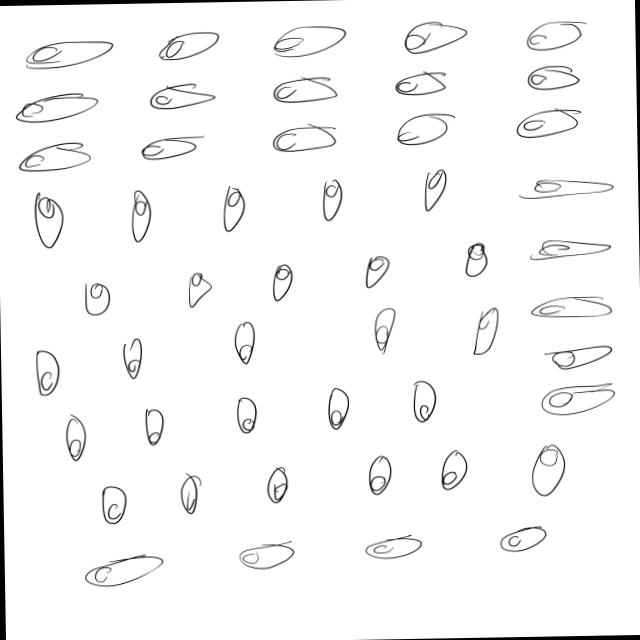Toggle: (10, 86, 109, 132), (15, 31, 116, 75), (518, 166, 618, 210), (72, 550, 172, 592), (516, 290, 616, 330), (272, 16, 354, 63), (2, 138, 93, 178), (393, 16, 468, 63), (534, 381, 624, 418), (228, 536, 307, 578), (518, 9, 591, 54), (528, 234, 614, 272), (304, 166, 361, 222), (114, 182, 162, 248), (56, 408, 105, 472), (20, 188, 74, 246), (388, 106, 459, 150), (156, 22, 220, 70), (524, 436, 572, 500), (352, 442, 398, 507), (264, 121, 339, 160), (516, 104, 586, 145), (402, 165, 452, 222), (140, 82, 223, 116), (540, 340, 620, 375), (124, 408, 188, 451), (353, 531, 427, 568), (166, 262, 220, 312), (487, 518, 554, 556), (395, 374, 445, 423), (520, 58, 583, 96), (110, 338, 167, 380), (388, 69, 456, 104), (19, 348, 66, 397), (170, 466, 212, 518), (428, 444, 471, 494), (468, 301, 504, 360), (274, 74, 339, 105), (461, 236, 498, 288), (135, 134, 201, 163), (262, 458, 300, 508), (219, 183, 254, 236), (226, 318, 262, 367), (268, 254, 300, 306), (231, 389, 264, 438), (100, 478, 131, 528), (367, 309, 401, 354), (324, 384, 352, 432), (80, 278, 111, 320), (361, 253, 395, 290)
